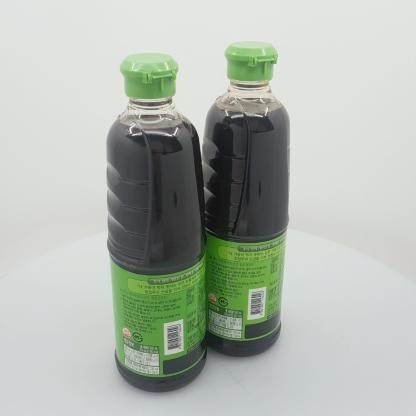-------------: (106, 53, 207, 392), (200, 41, 290, 357)
